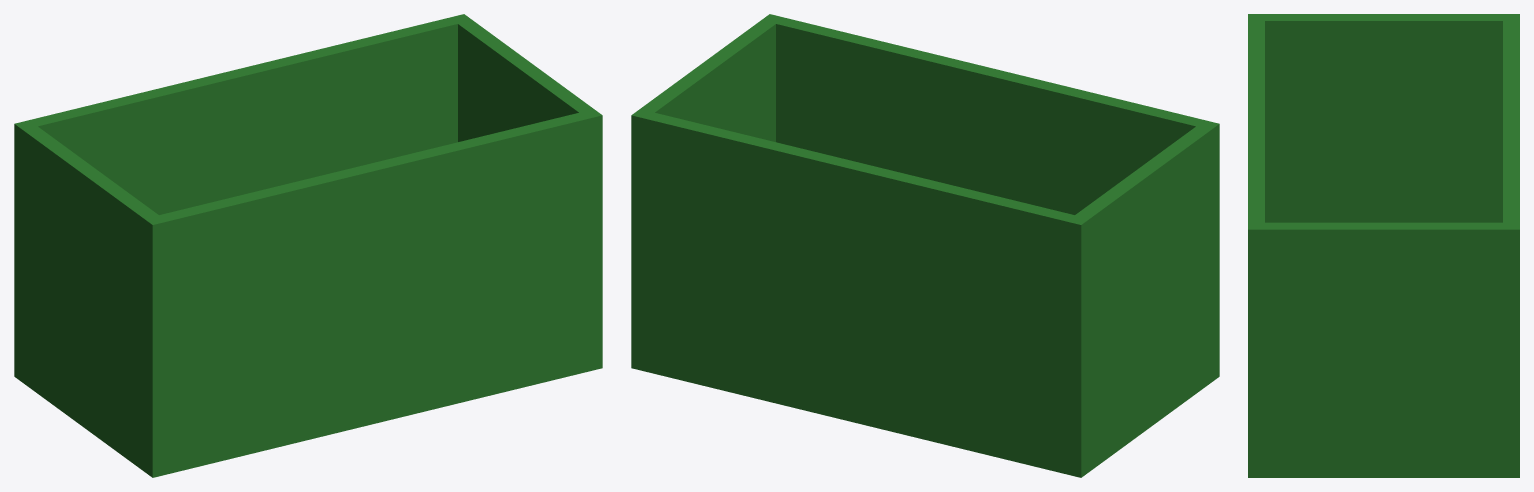
Rendered from Bullet-Box.obj.
The picture shows the model from 3 angles, left to right: view 1: azimuth 30°, elevation 25°; view 2: azimuth 150°, elevation 25°; view 3: azimuth 270°, elevation 25°; orthographic projection.
Parts seen in each view (by area): view 1: Bullet-Box; view 2: Bullet-Box; view 3: Bullet-Box.
Part boxes in pixels (x1,y1,x2,y2): Bullet-Box: (14, 14, 602, 477); Bullet-Box: (631, 14, 1219, 477); Bullet-Box: (1248, 14, 1519, 477).
Size of the model in its own units: 2.14 by 1.15 by 1.14.
